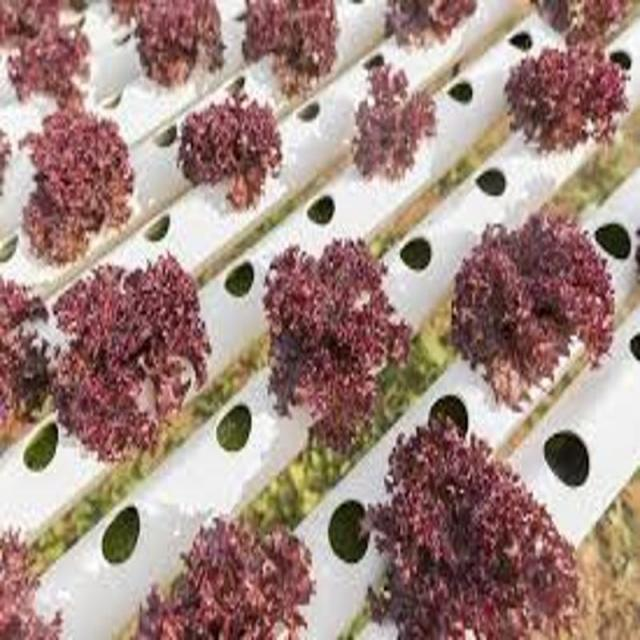Lettuce: (361, 413, 583, 640), (52, 254, 220, 464), (443, 214, 620, 404), (260, 233, 412, 452), (138, 515, 315, 640), (18, 98, 138, 267), (500, 40, 635, 157), (170, 97, 285, 208), (352, 58, 440, 190), (6, 0, 103, 116), (237, 0, 343, 100), (113, 0, 224, 93), (0, 281, 58, 458), (0, 521, 65, 640), (378, 0, 481, 51), (518, 0, 640, 41)
